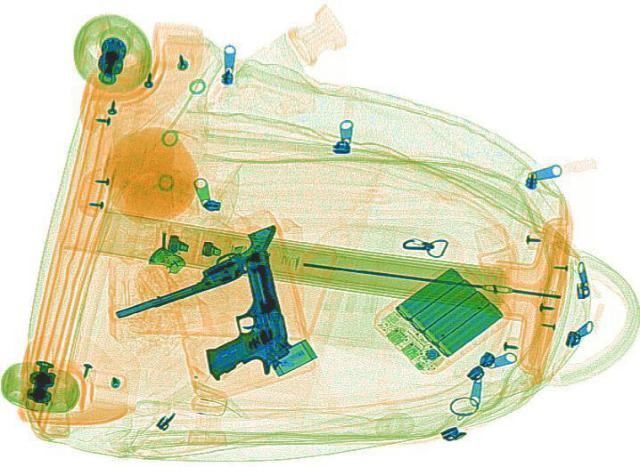Gun: (93, 221, 297, 322), (178, 249, 300, 380)
